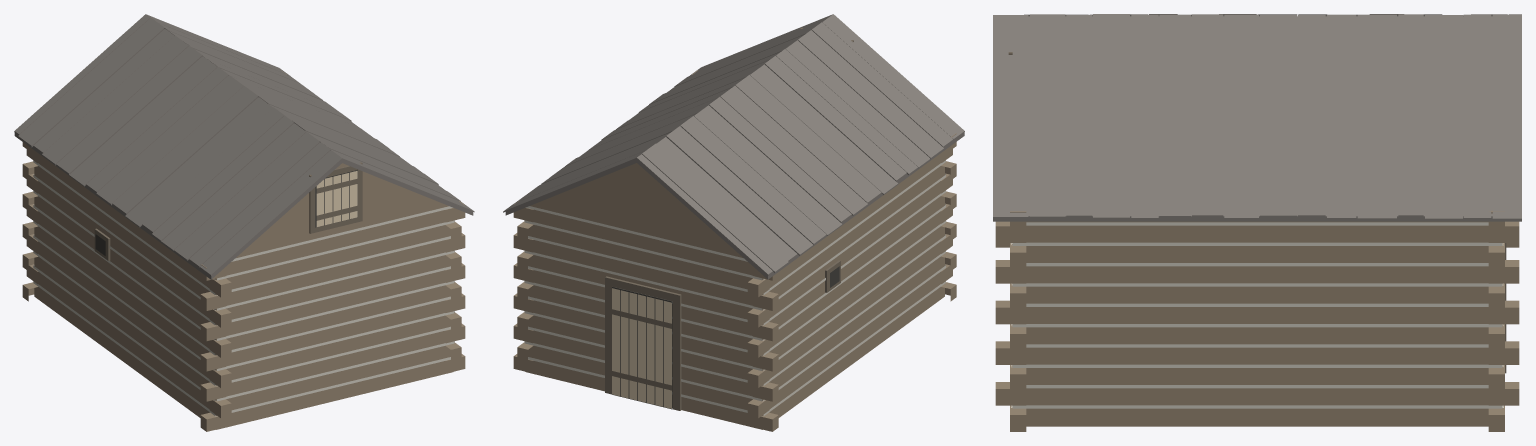
The model's file is recon_1835_blk_lake_market_a1_06__inferred_1835.glb.
3 renders of one model, left to right at view 1: azimuth 30°, elevation 25°; view 2: azimuth 150°, elevation 25°; view 3: azimuth 270°, elevation 25°, orthographic. The views are drawn at different scales.
Parts seen in each view (by area): view 1: recon_1835_blk_lake_market_a1_06__inferred_1835; view 2: recon_1835_blk_lake_market_a1_06__inferred_1835; view 3: recon_1835_blk_lake_market_a1_06__inferred_1835.
Boxes of the visible parts, <box> form: recon_1835_blk_lake_market_a1_06__inferred_1835: <box>14,14,474,431</box>; recon_1835_blk_lake_market_a1_06__inferred_1835: <box>503,14,964,431</box>; recon_1835_blk_lake_market_a1_06__inferred_1835: <box>993,14,1521,431</box>.
Size of the model in its own units: 5.96 by 5.3 by 7.59.
